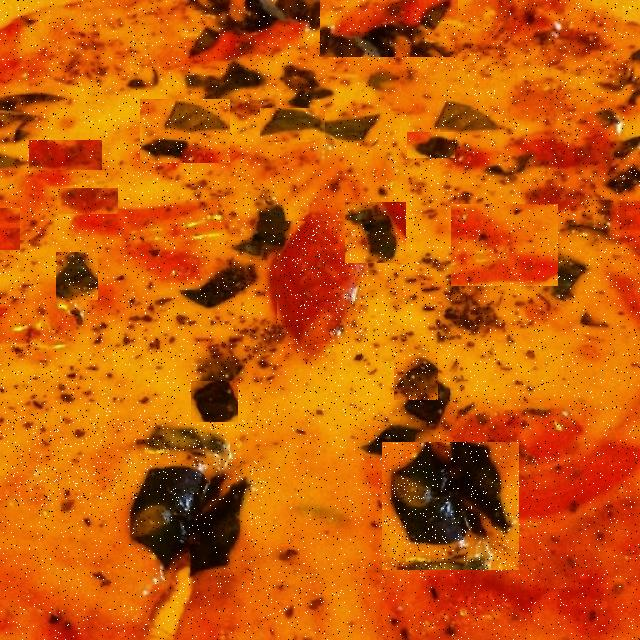Basil: (382, 442, 519, 570), (320, 0, 458, 57), (315, 70, 447, 117), (140, 99, 230, 163), (345, 202, 406, 263), (384, 262, 453, 310), (260, 108, 325, 142), (394, 353, 438, 400), (226, 428, 286, 462), (56, 252, 98, 300), (191, 381, 238, 422), (407, 132, 455, 158)
Pizza: (0, 0, 640, 640)
Tomato: (7, 416, 271, 502), (277, 221, 368, 344), (452, 205, 560, 286), (335, 17, 445, 65), (29, 140, 102, 170), (58, 188, 118, 214), (0, 265, 25, 317), (0, 208, 20, 250)
